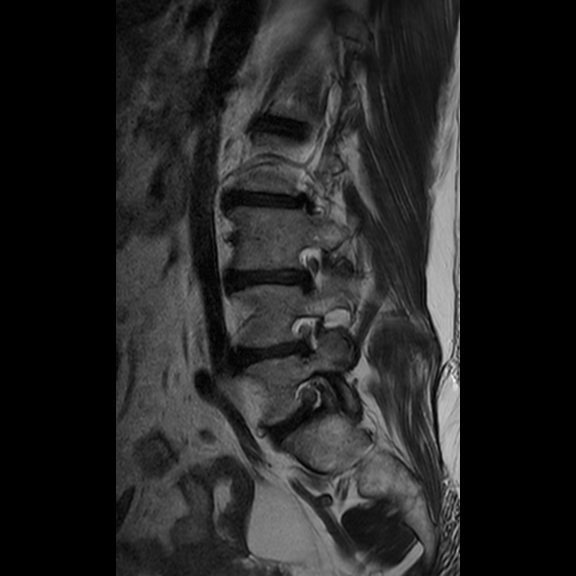RFS0: (281, 301, 332, 358)
